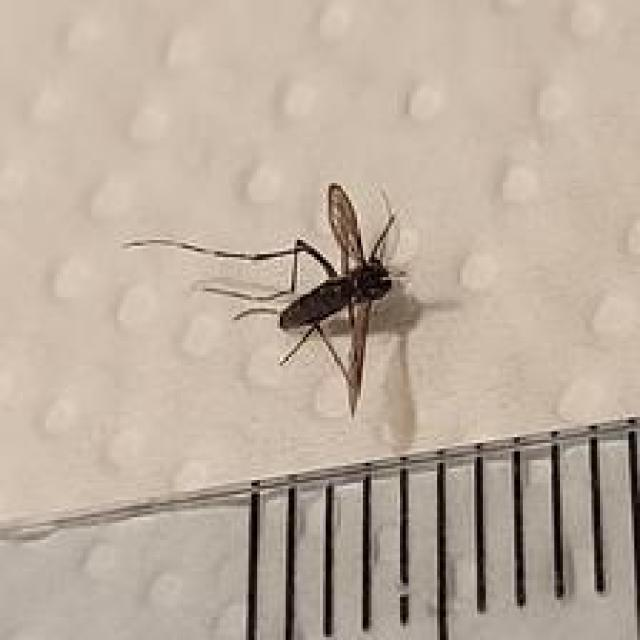Aedes albopictus: (121, 182, 410, 418)
